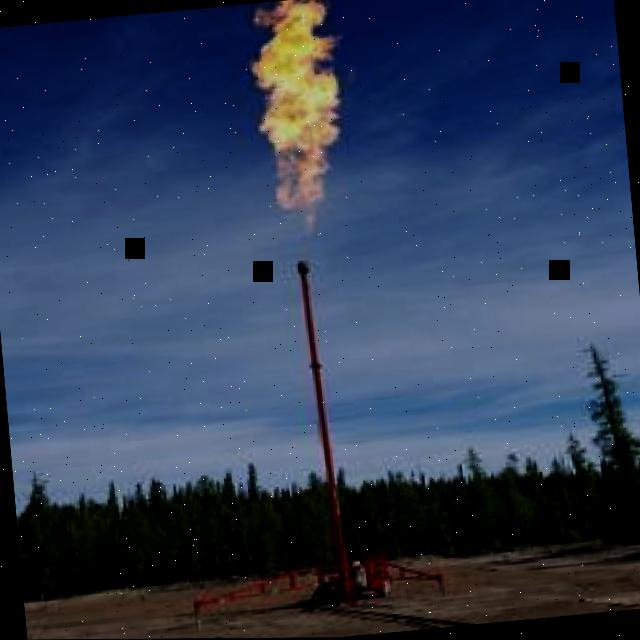fire: (247, 0, 341, 238)
